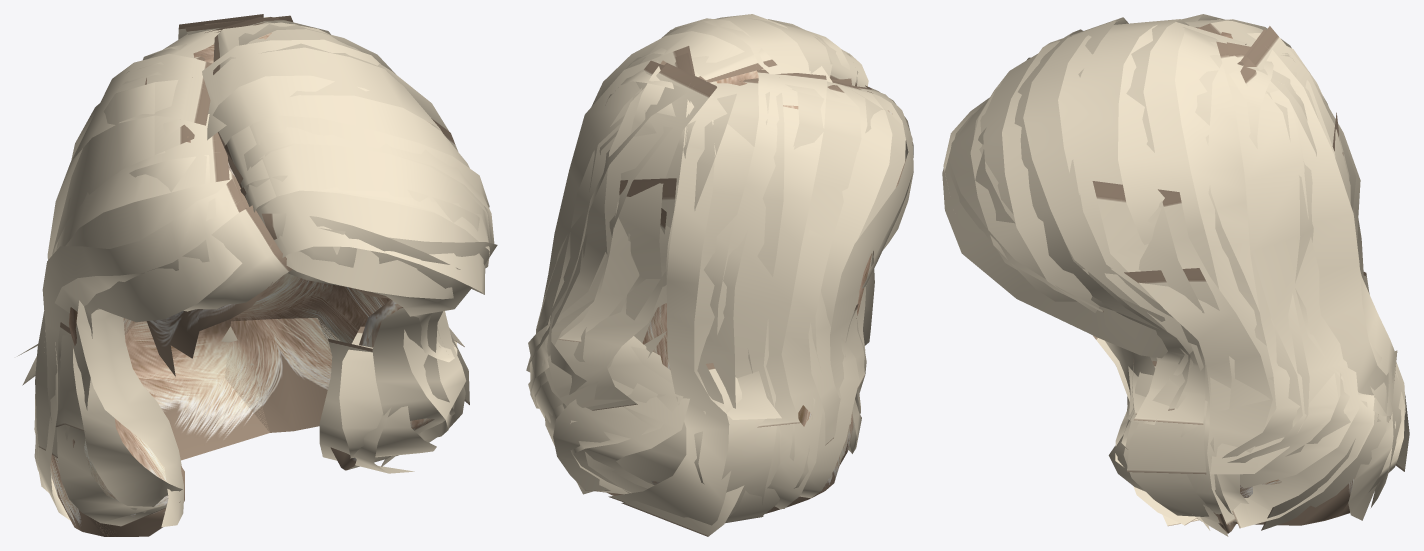
The model's file is hair_006.obj.
The picture shows the model from 3 angles, left to right: view 1: azimuth 30°, elevation 25°; view 2: azimuth 150°, elevation 25°; view 3: azimuth 270°, elevation 25°; orthographic projection. The views are drawn at different scales.
Bounding box in the file's own units: 23.1 × 29.32 × 26.71.
